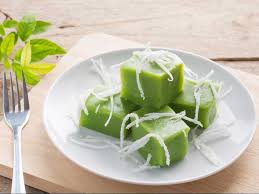kanompiakpoon: (81, 50, 223, 168), (127, 101, 193, 174), (118, 44, 188, 110)
